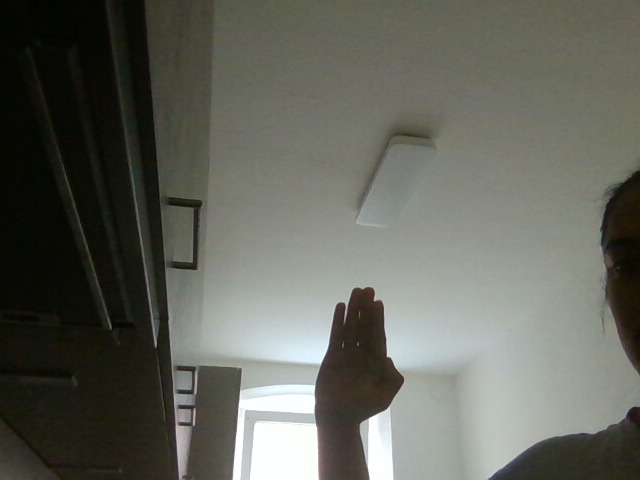open_hand: (291, 277, 416, 436)
